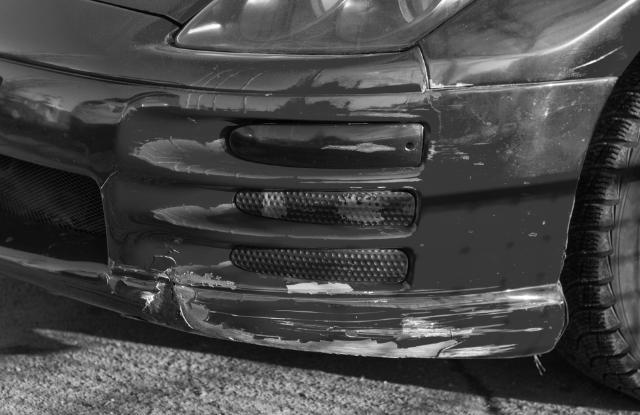Bumper: (0, 47, 579, 368)
